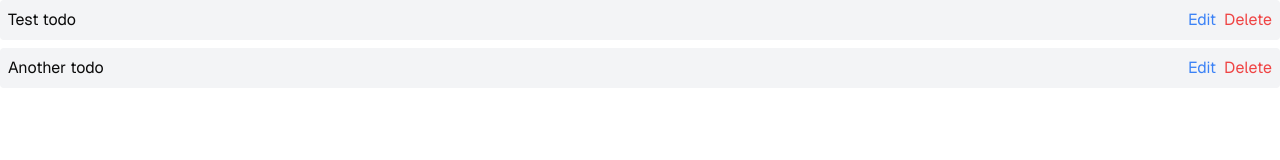
TodoList › can enter edit mode
Expected: the text "Test todo" is shown, top-left (8, 8), bottom-right (76, 32)
Click the button "Edit" in the row of "Test todo" at (1202,20), box top-left (1188, 8), bottom-right (1216, 32)
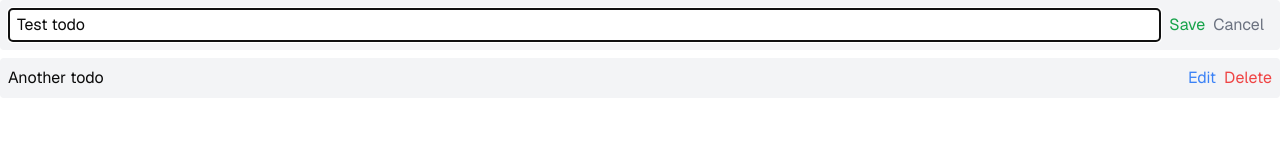
Expected: the field showing "Test todo" is shown, top-left (8, 8), bottom-right (1161, 42)
